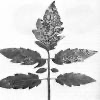Tomato Septoria leaf spot: (32, 1, 66, 50), (1, 45, 46, 68), (56, 71, 99, 91), (1, 72, 43, 92), (51, 48, 98, 65)
